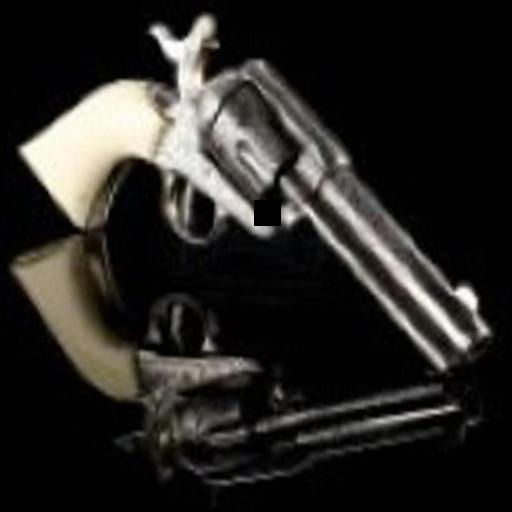Handgun: (0, 0, 511, 390)
